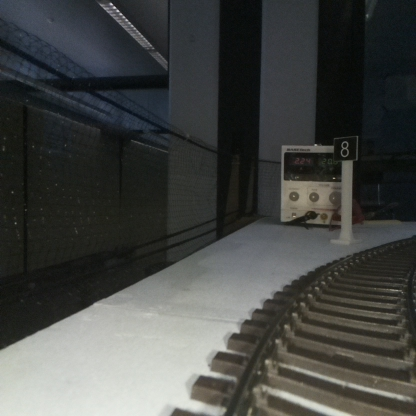black-info-8: (334, 136, 356, 241)
